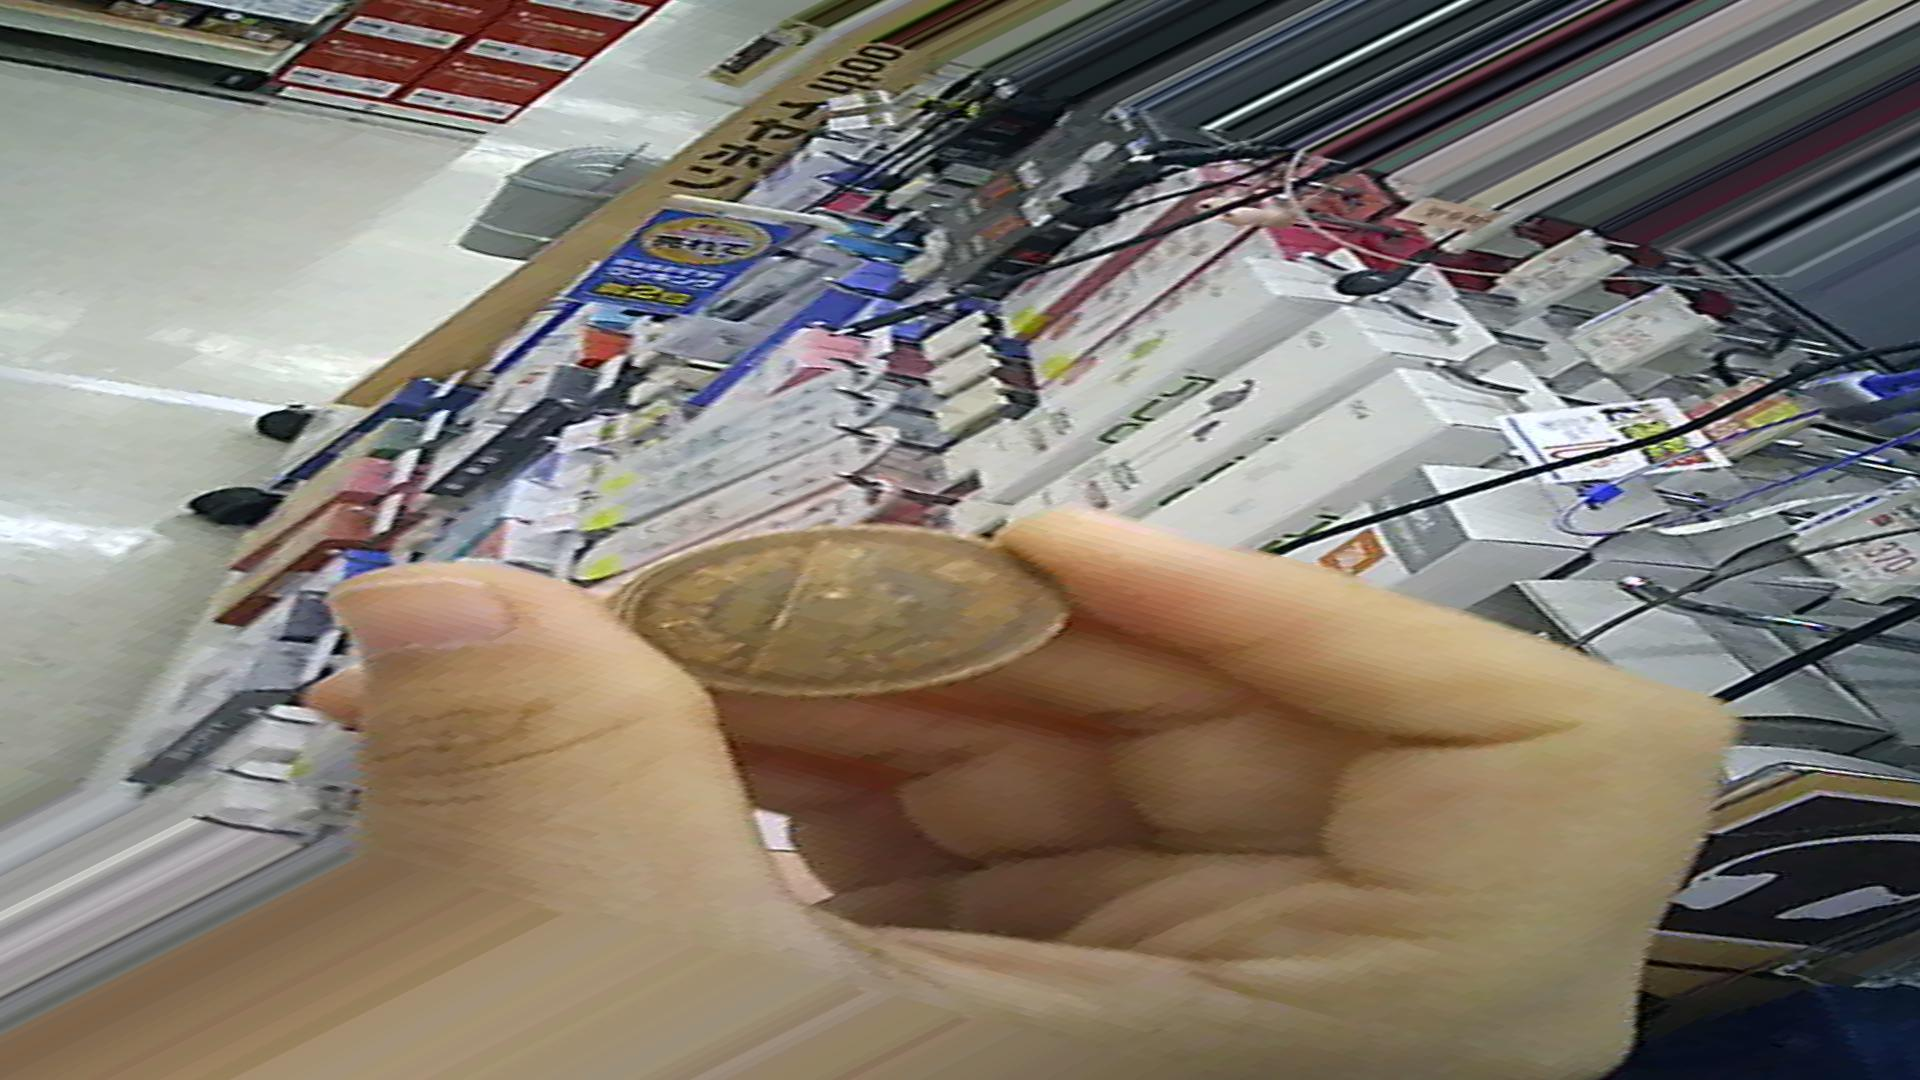10 Yen: (607, 512, 1054, 713)
